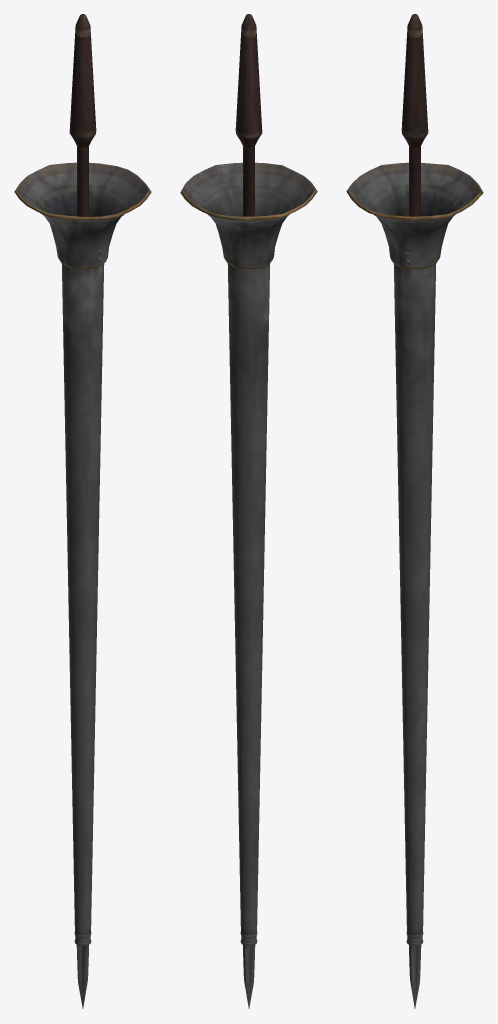
File: weapon-wp_a_0938.glb
3 views of the same model, side by side, from view 1: azimuth 30°, elevation 25°; view 2: azimuth 150°, elevation 25°; view 3: azimuth 330°, elevation 25° (orthographic).
Parts seen in each view (by area): view 1: wp_a_0938_mesh; view 2: wp_a_0938_mesh; view 3: wp_a_0938_mesh.
Part boxes in pixels (<box>): wp_a_0938_mesh: <box>14,14,151,1008</box>; wp_a_0938_mesh: <box>180,14,317,1008</box>; wp_a_0938_mesh: <box>346,14,483,1008</box>.
Size of the model in its own units: 0.283 by 2.38 by 0.297.
Materials: 1 (1 with a texture image).
